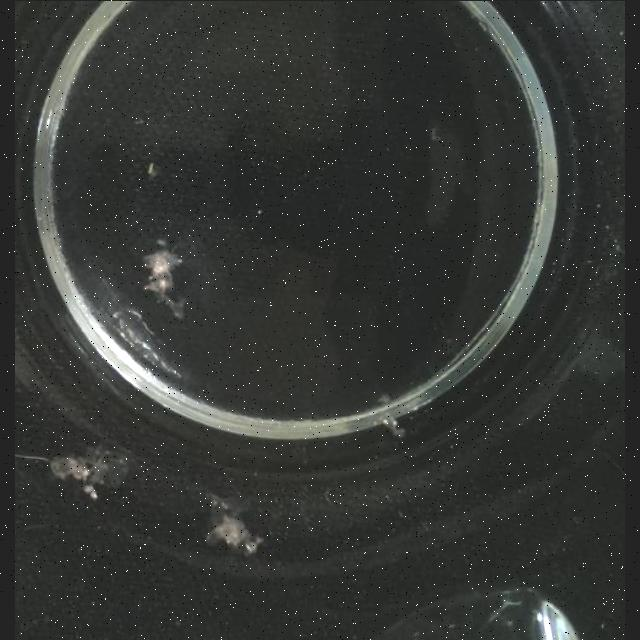Fibre: (43, 436, 133, 496), (200, 488, 272, 556), (142, 238, 184, 318), (379, 413, 406, 437)
microbeads: (146, 161, 158, 179)
